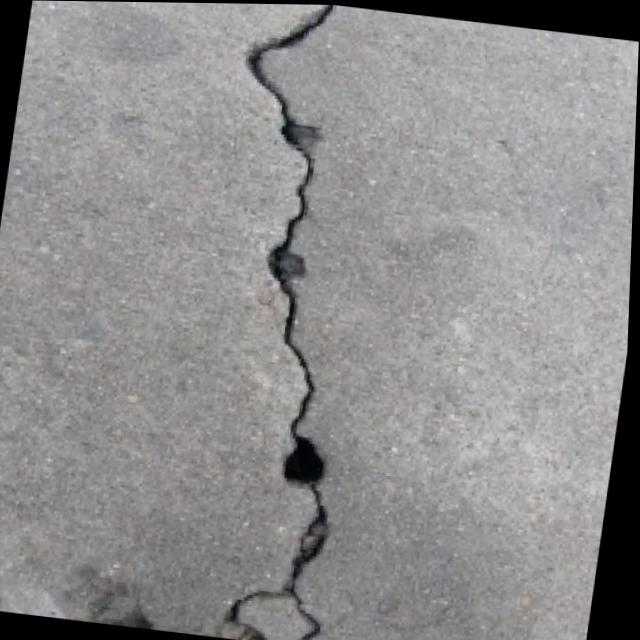Crack: (152, 2, 431, 640)
